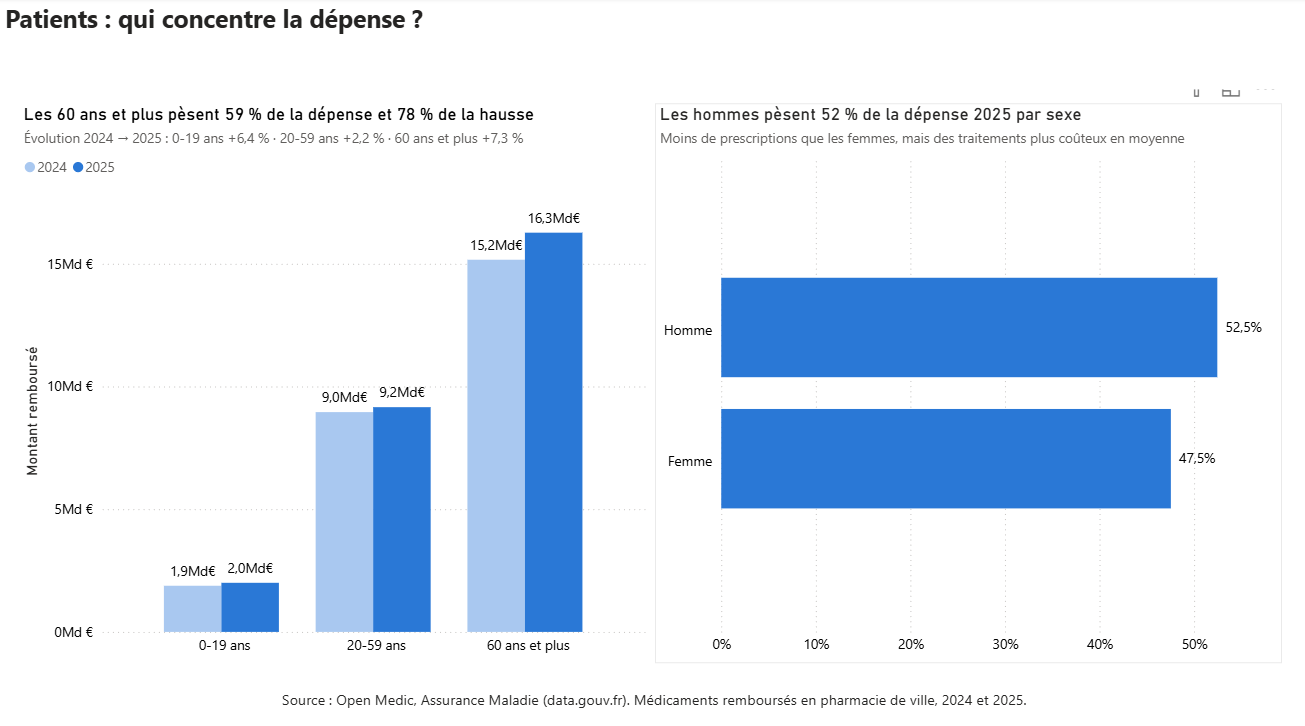

The dashboard page shown, as its layout file describes it:
{"tool":"powerbi","page":{"name":"Patients","canvas":[1280,720],"ordinal":2},"visuals":[{"type":"clusteredColumnChart","title":"Les 60 ans et plus pèsent 59 % de la dépense et 78 % de la hausse","fields":{"Category":["synthese_depenses.tranche_age"],"Y":["_Mesures.Montant 2024","_Mesures.Montant 2025"]},"box":[18.6,104.4,622.3,549.3],"z":0},{"type":"textbox","box":[0,672.3,1280.3,47.2],"z":1000},{"type":"clusteredBarChart","fields":{"Category":["synthese_depenses.sexe"],"Y":["_Mesures.Montant remboursé"]},"box":[640.9,104.4,612.3,547.9],"z":2000},{"type":"textbox","box":[0,0,1280.3,90.1],"z":2001}]}

Visuals, with their boxes in screenshot pixels (x1, y1, x2, y2), scaled from the page's 1280x720 canvas onto the 1305x726 screenshot:
"Les 60 ans et plus pèsent 59 % de la dépense et 78 % de la hausse" clusteredColumnChart: 19 105 653 659
textbox: 0 678 1304 725
clusteredBarChart - synthese_depenses.sexe x _Mesures.Montant remboursé: 653 105 1278 658
textbox: 0 0 1304 91
